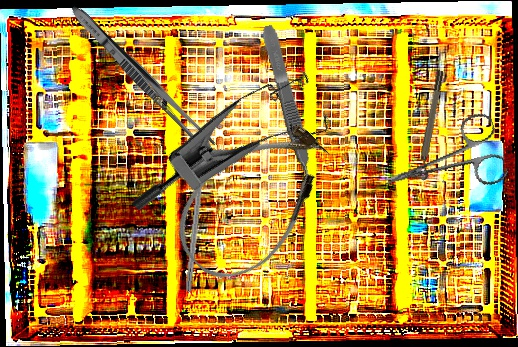Cannula: (156, 102, 354, 299)
Dressing Forceps: (65, 1, 220, 155)
Fixation Ring: (412, 69, 451, 182)
Hook Surgical: (184, 128, 210, 292)
Iris Scissors: (374, 110, 510, 214)
Speculum: (129, 39, 347, 271)
Tissue Forceps: (259, 23, 319, 193)
